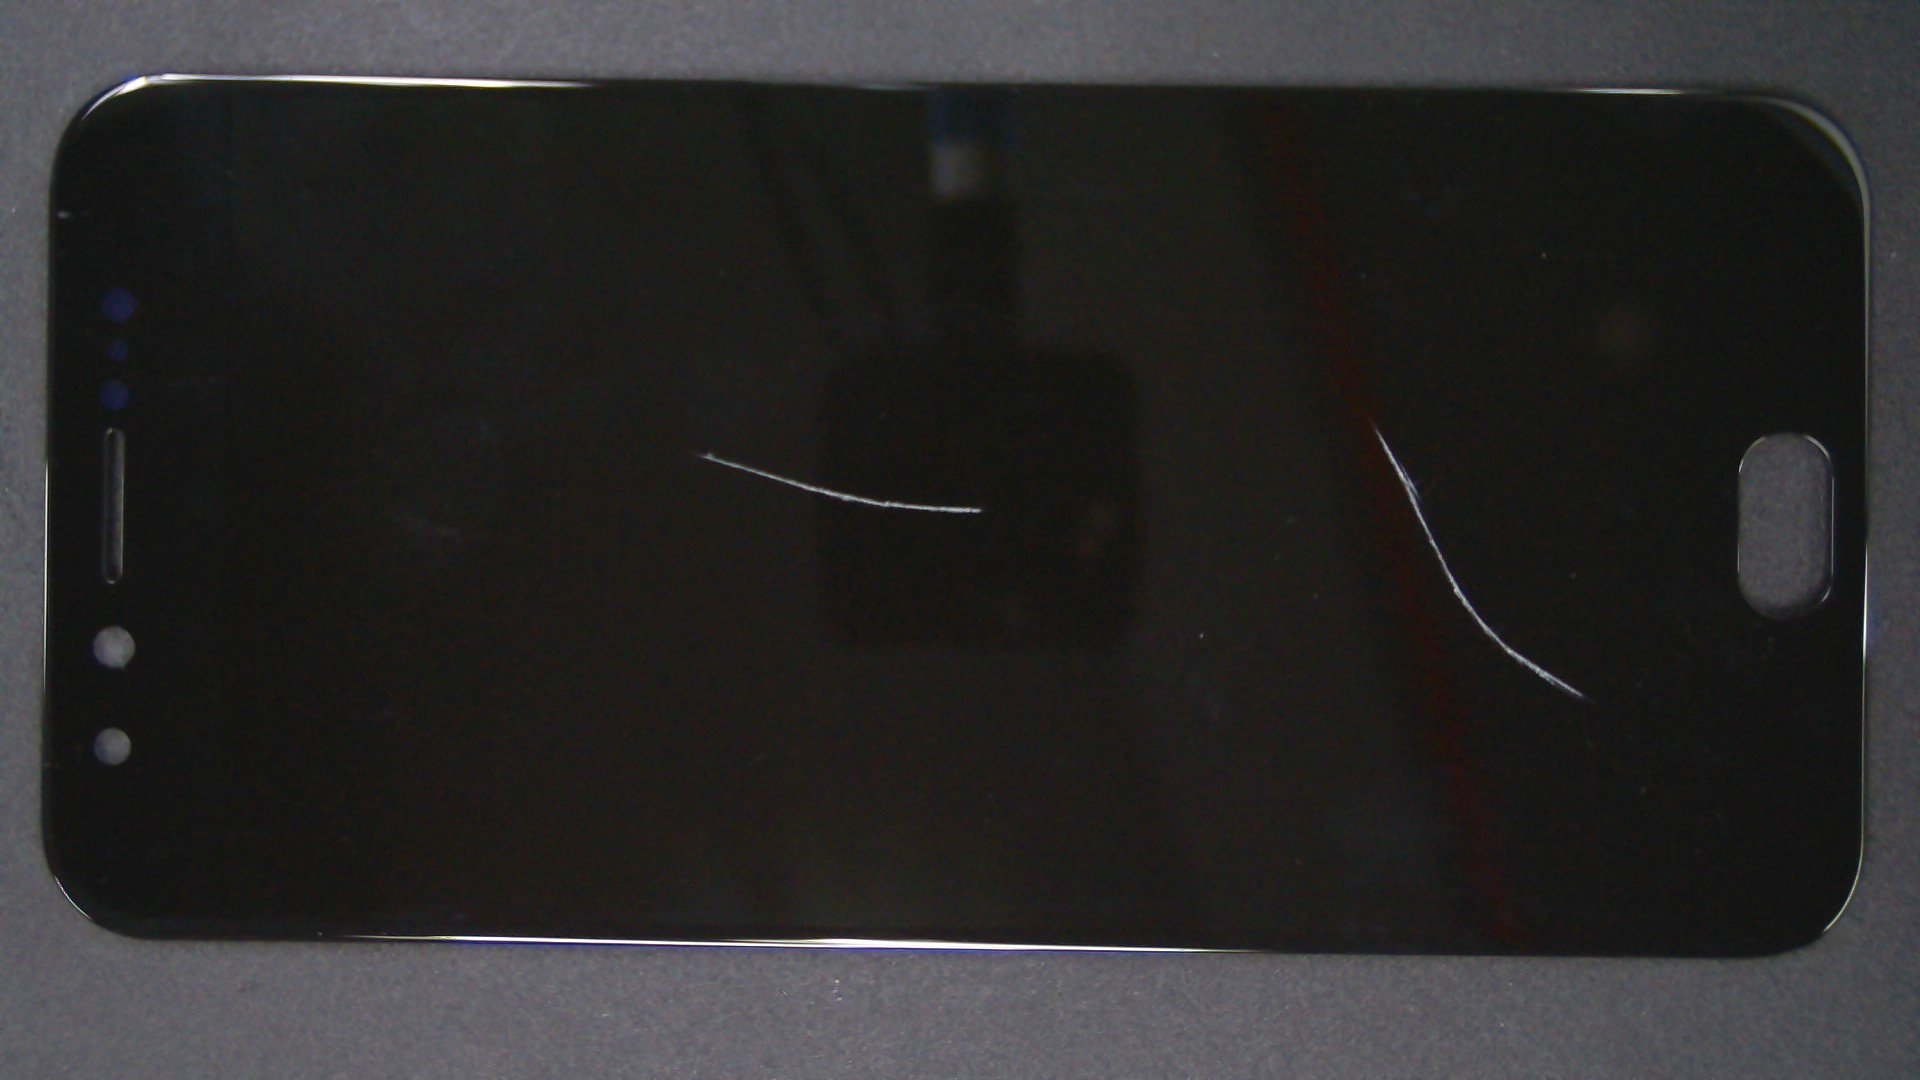oil: (687, 212, 1920, 640), (356, 225, 1064, 676)
